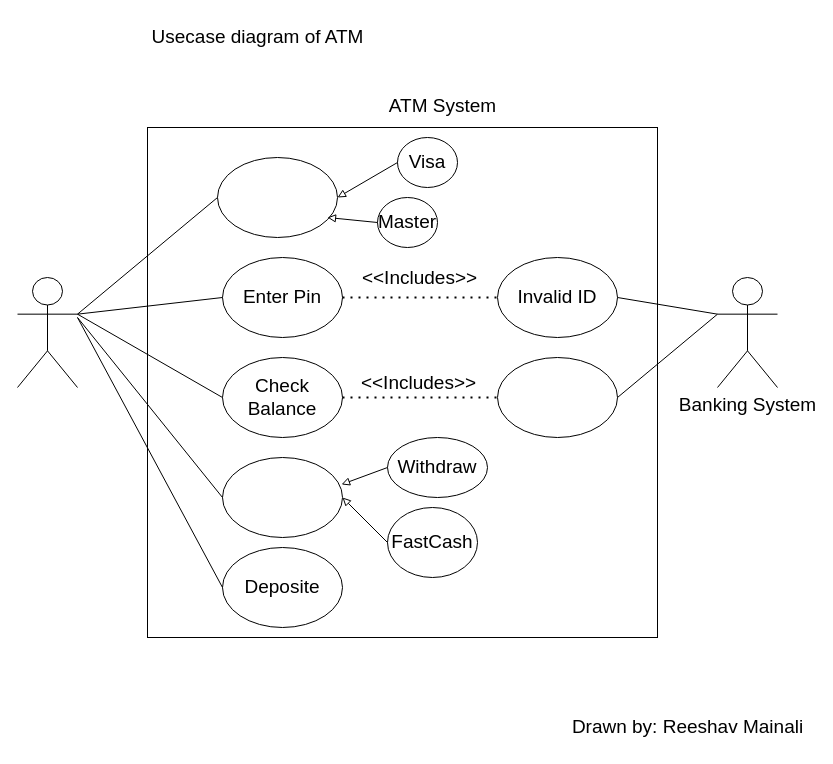
Image size: 833x764. Some labels were removed from this diagram. Here are the shapes that lost their labels. From the top down, the centre of each, then its label:
the point at 277,197: Enter Card
the point at 47,332: User
the point at 557,397: Request for statement
the point at 282,497: Withdraw Money
